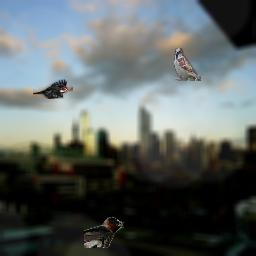Sparrow: (174, 48, 201, 81)
Swallow: (84, 217, 124, 248)
Woodpecker: (33, 79, 73, 99)
